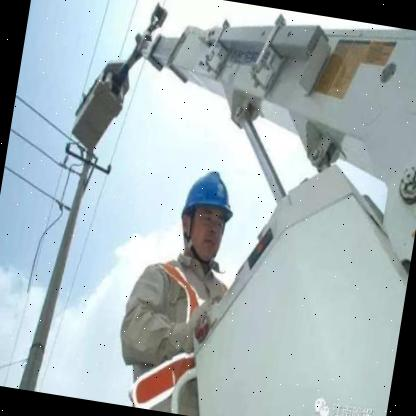capacete: (178, 164, 241, 230)
